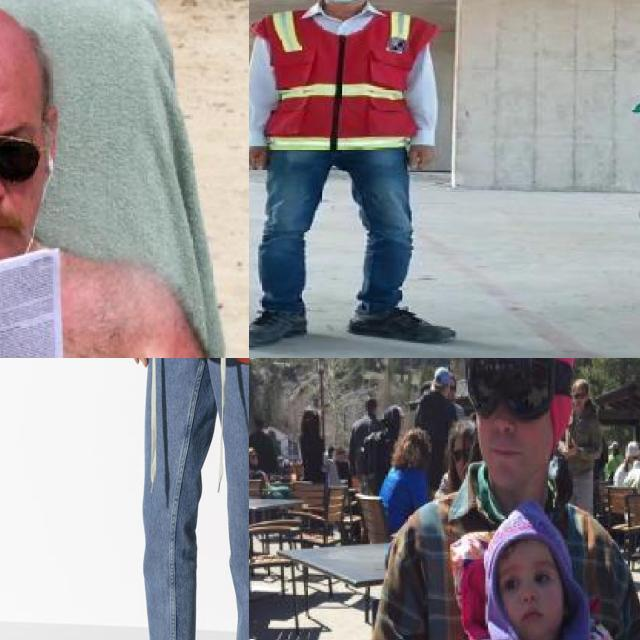No_Glasses: (494, 561, 560, 590)
face_nomask: (466, 358, 542, 467), (0, 106, 49, 261), (495, 567, 561, 629)
glasses: (457, 358, 556, 425), (0, 95, 51, 181)
hand_noglove: (401, 137, 438, 175), (249, 138, 273, 173)
head_nohelmet: (483, 506, 568, 559)
person: (0, 0, 245, 358), (348, 358, 640, 640), (249, 0, 461, 350)
shoes: (343, 303, 454, 347), (249, 306, 311, 352)
vest: (249, 1, 447, 154)
